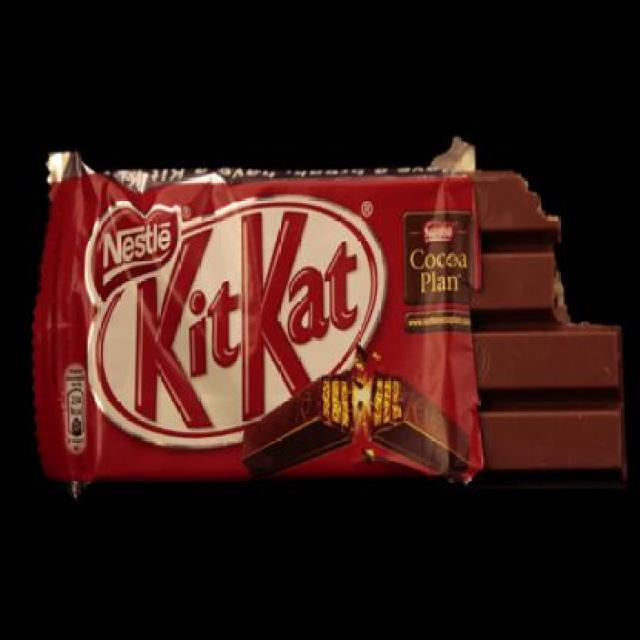Chocolate bar: (33, 150, 473, 488)
